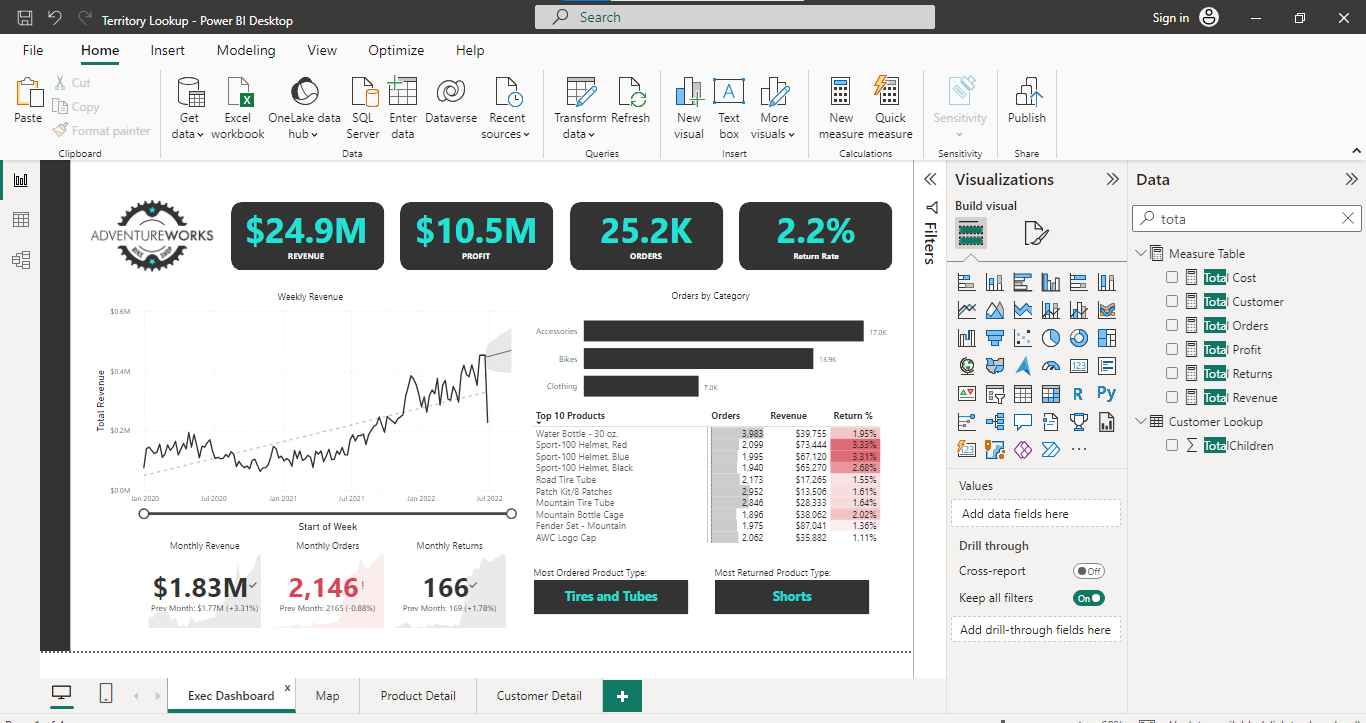

Layout of this report page (visuals, bound fields, positions):
{"tool":"powerbi","page":{"name":"Exec Dashboard","canvas":[1280,720],"ordinal":0},"visuals":[{"type":"image","title":"AW Logo","box":[50,38.6,228.6,145.7],"z":0},{"type":"shape","box":[280,62,225,100],"z":0,"group":"g2"},{"type":"shape","title":"Left Nav Background","box":[0,0,45,720],"z":1000},{"type":"shape","box":[528.3,62,225,100],"z":1000,"group":"g2"},{"type":"group","id":"g1","title":"KPIs","box":[275.3,33.9,976.9,149.6],"z":2000},{"type":"group","id":"g2","title":"KPI Background","box":[280,62,970,100],"z":2000,"group":"g1"},{"type":"shape","box":[1025,62,225,100],"z":2000,"group":"g2"},{"type":"card","fields":{"Values":["Measure Table.Total Revenue"]},"box":[275.3,33.9,228.7,149.6],"z":3000,"group":"g3"},{"type":"shape","box":[776.7,62,225,100],"z":3000,"group":"g2"},{"type":"lineChart","title":"Weekly Revenue","fields":{"Y":["Measure Table.Total Revenue"],"Category":["Calendar Lookup.Start of Week"]},"box":[76,190,640,360],"z":3000},{"type":"card","fields":{"Values":["Measure Table.Total Profit"]},"box":[524.7,33.9,228.7,149.6],"z":4000,"group":"g3"},{"type":"kpi","title":"Monthly Revenue","fields":{"Indicator":["Measure Table.Total Revenue"],"TrendLine":["Calendar Lookup.Start of Month"],"Goal":["Measure Table.Previous Month Revenue"]},"box":[153.9,556.2,175.1,135.5],"z":4000},{"type":"card","fields":{"Values":["Measure Table.Total Orders"]},"box":[774.1,33.9,228.7,149.6],"z":5000,"group":"g3"},{"type":"kpi","title":"Monthly Returns","fields":{"TrendLine":["Calendar Lookup.Start of Month"],"Indicator":["Measure Table.Total Returns"],"Goal":["Measure Table.Previous Month Returns"]},"box":[513.9,556.2,175.1,135.5],"z":5000},{"type":"card","fields":{"Values":["Measure Table.Return Rate"]},"box":[1023.5,33.9,228.7,149.6],"z":6000,"group":"g3"},{"type":"kpi","title":"Monthly Orders","fields":{"TrendLine":["Calendar Lookup.Start of Month"],"Indicator":["Measure Table.Total Orders"],"Goal":["Measure Table.Previous Month Orders"]},"box":[333.9,556.2,175.1,135.5],"z":6000},{"type":"group","id":"g3","title":"KPI Values","box":[275.3,33.9,976.9,149.6],"z":6001,"group":"g1"},{"type":"clusteredBarChart","title":"Orders by Category","fields":{"Category":["Product Categories Lookup.CategoryName"],"Y":["Measure Table.Total Orders"]},"box":[717.2,189.2,532.2,180.7],"z":7000},{"type":"pivotTable","fields":{"Rows":["Product Lookup.ProductName"],"Values":["Measure Table.Total Orders","Measure Table.Total Revenue","Measure Table.Return Rate"]},"box":[717.2,360,535.1,213.2],"z":8000},{"type":"card","fields":{"Values":["Min(Product Subcategories Lookup.SubcategoryName)"]},"box":[724.3,615.8,225.8,49.9],"z":9000},{"type":"textbox","box":[718.4,590.9,246.3,27.9],"z":10000},{"type":"card","fields":{"Values":["Min(Product Subcategories Lookup.SubcategoryName)"]},"box":[989.7,615.8,225.8,49.9],"z":11000},{"type":"textbox","box":[983.7,590.9,246.3,27.9],"z":12000}]}

Visuals, with their boxes on the page's 1280x720 design canvas (x1, y1, x2, y2). These are canvas units, not pixel positions in the 1366x723 screenshot, which may show the page scaled, cropped or inside an application window:
"AW Logo" image: locate(50, 39, 279, 184)
shape: locate(280, 62, 505, 162)
"Left Nav Background" shape: locate(0, 0, 45, 720)
shape: locate(528, 62, 753, 162)
"KPIs" group: locate(275, 34, 1252, 184)
"KPI Background" group: locate(280, 62, 1250, 162)
shape: locate(1025, 62, 1250, 162)
card - Measure Table.Total Revenue: locate(275, 34, 504, 184)
shape: locate(777, 62, 1002, 162)
"Weekly Revenue" lineChart: locate(76, 190, 716, 550)
card - Measure Table.Total Profit: locate(525, 34, 753, 184)
"Monthly Revenue" kpi: locate(154, 556, 329, 692)
card - Measure Table.Total Orders: locate(774, 34, 1003, 184)
"Monthly Returns" kpi: locate(514, 556, 689, 692)
card - Measure Table.Return Rate: locate(1024, 34, 1252, 184)
"Monthly Orders" kpi: locate(334, 556, 509, 692)
"KPI Values" group: locate(275, 34, 1252, 184)
"Orders by Category" clusteredBarChart: locate(717, 189, 1249, 370)
pivotTable - Product Lookup.ProductName x Measure Table.Total Orders: locate(717, 360, 1252, 573)
card - Min(Product Subcategories Lookup.SubcategoryName): locate(724, 616, 950, 666)
textbox: locate(718, 591, 965, 619)
card - Min(Product Subcategories Lookup.SubcategoryName): locate(990, 616, 1216, 666)
textbox: locate(984, 591, 1230, 619)
